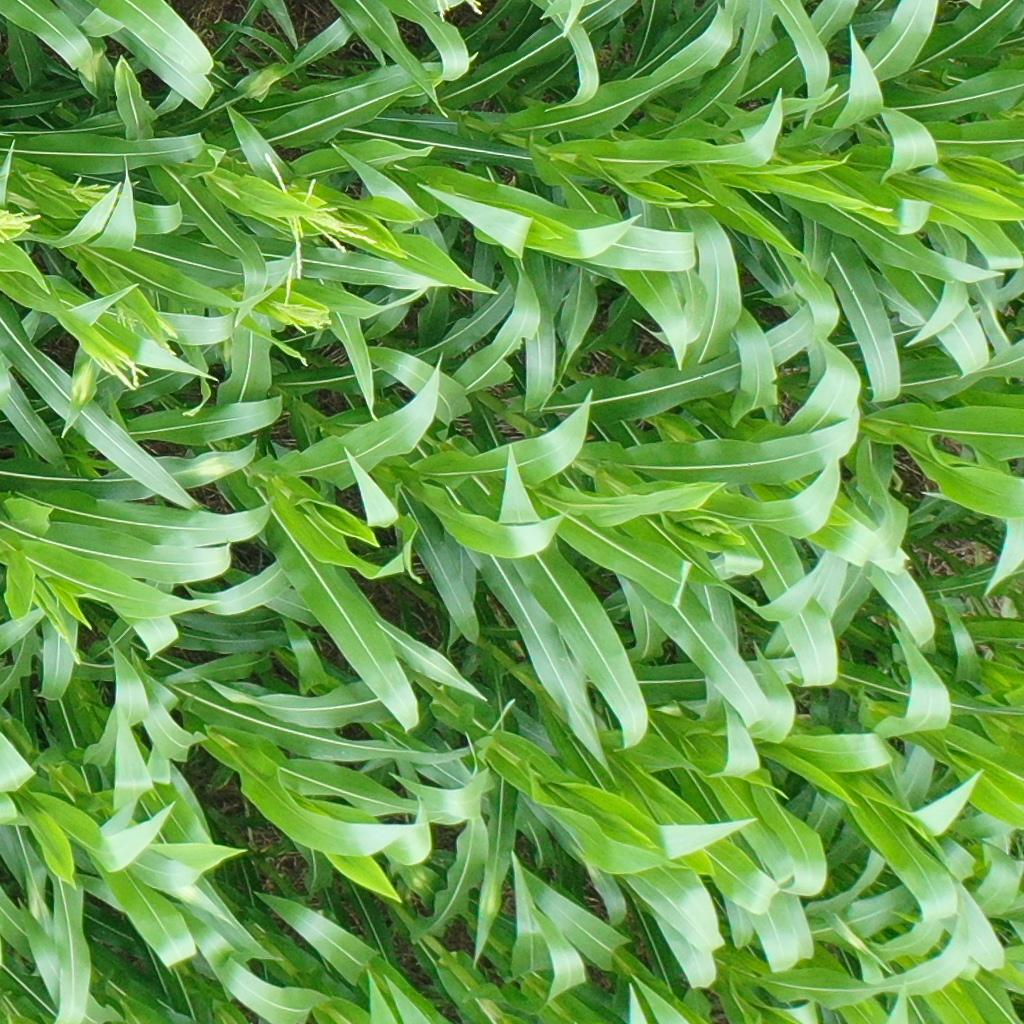Tassel: (260, 149, 378, 255), (256, 259, 336, 340), (83, 343, 149, 393), (109, 296, 181, 340), (67, 175, 132, 213), (42, 614, 83, 667), (1, 204, 44, 242), (683, 517, 736, 540), (428, 1, 486, 22)
